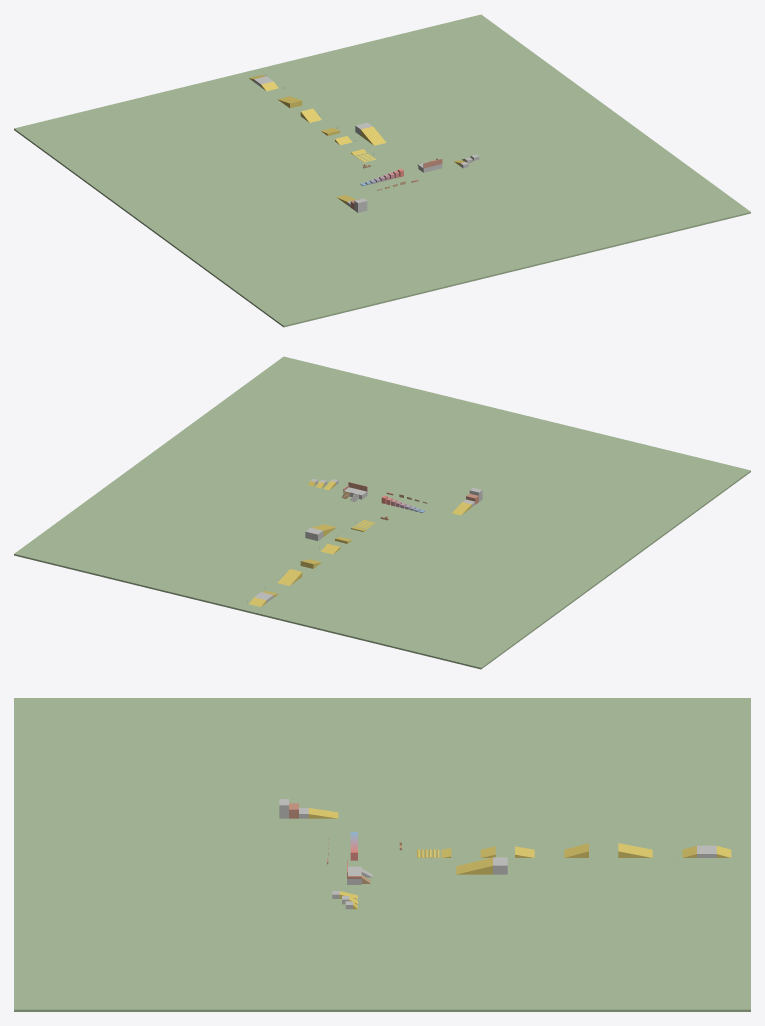
File: DeliriumTestMap.glb
3 views of the same model, one above another, from view 1: azimuth 30°, elevation 25°; view 2: azimuth 150°, elevation 25°; view 3: azimuth 270°, elevation 25° (orthographic). The views are drawn at different scales.
Parts seen in each view (by area): view 1: ground_1; view 2: ground_1; view 3: ground_1.
Part boxes in pixels (box(x1,y1,x2,y2)): ground_1: box(14, 14, 750, 327); ground_1: box(14, 356, 750, 669); ground_1: box(14, 698, 750, 1011).
Bounding box in the file's own units: 300 × 7 × 300.
